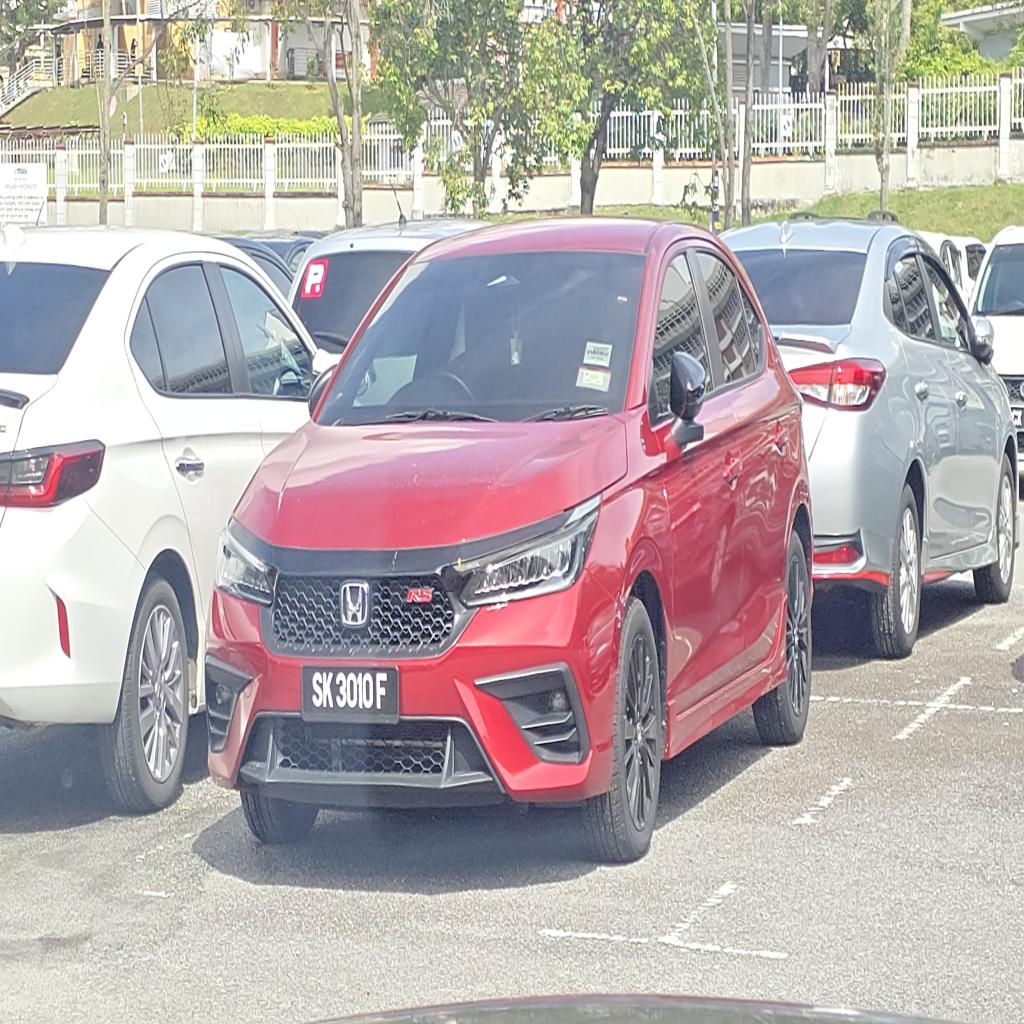car: (207, 219, 812, 860)
car plate: (302, 666, 399, 723)
